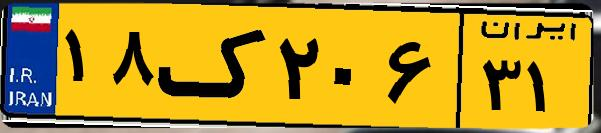0: (330, 28, 385, 110)
1: (57, 26, 110, 100), (525, 38, 570, 115)
2: (270, 28, 330, 110)
3: (475, 38, 525, 113)
6: (385, 28, 445, 110)
8: (110, 28, 158, 98)
ک: (158, 12, 270, 120)
